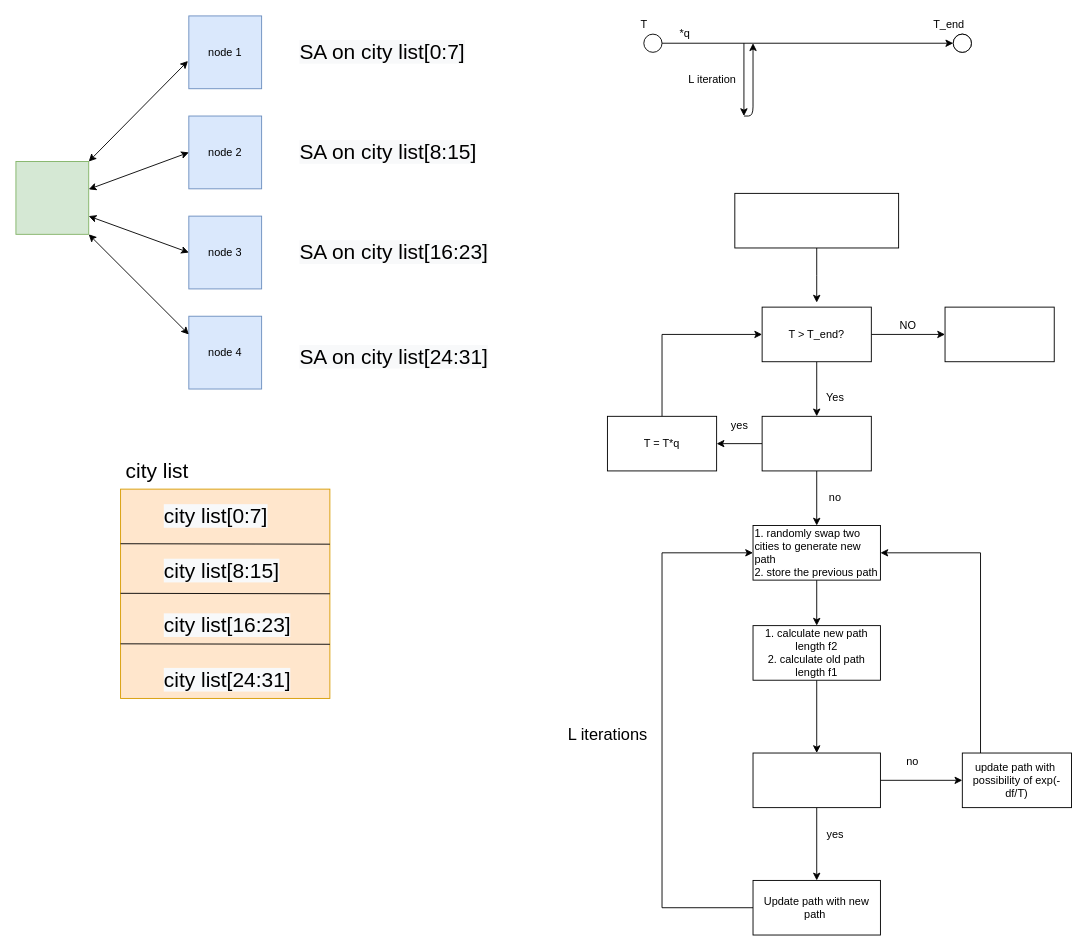
Some shapes in this 1087 by 951 pixel diagram are drawn without their labels. The centre of each missing label's shape, as x and y in pixels:
f1 > f2?: the point at 816,780
L iteration ends?: the point at 816,443
node 0: the point at 52,197
random path solution for TSP: the point at 816,220
Send_result path to node 0: the point at 999,334
